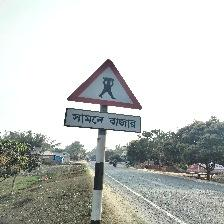Market-in-front: (65, 59, 142, 133)
